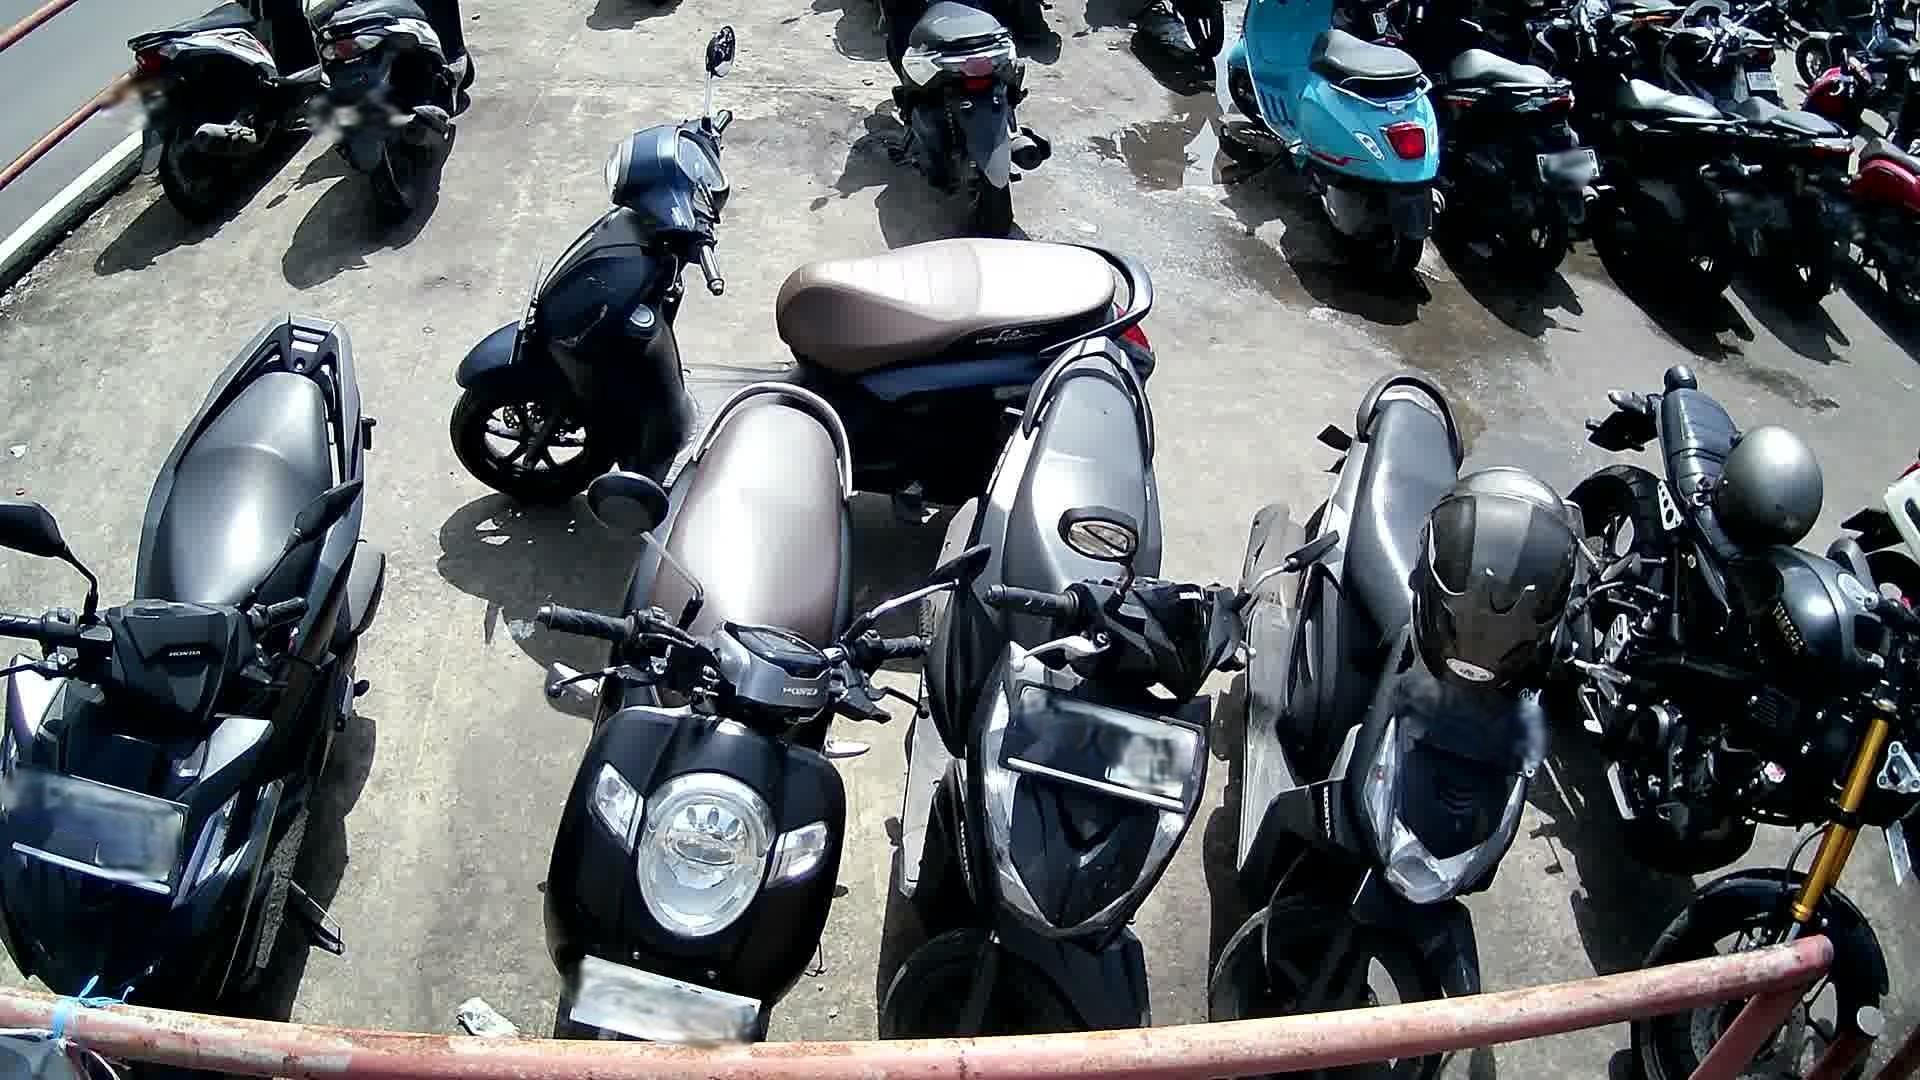motorcycle: (444, 22, 1160, 508), (531, 381, 959, 1080), (885, 336, 1284, 1080), (0, 313, 390, 1029), (1557, 365, 1920, 1080), (1213, 371, 1573, 1080), (1528, 0, 1770, 302), (1375, 0, 1614, 291), (1218, 0, 1453, 294), (1650, 0, 1869, 314), (119, 0, 330, 228), (878, 0, 1056, 241), (314, 0, 481, 227)
